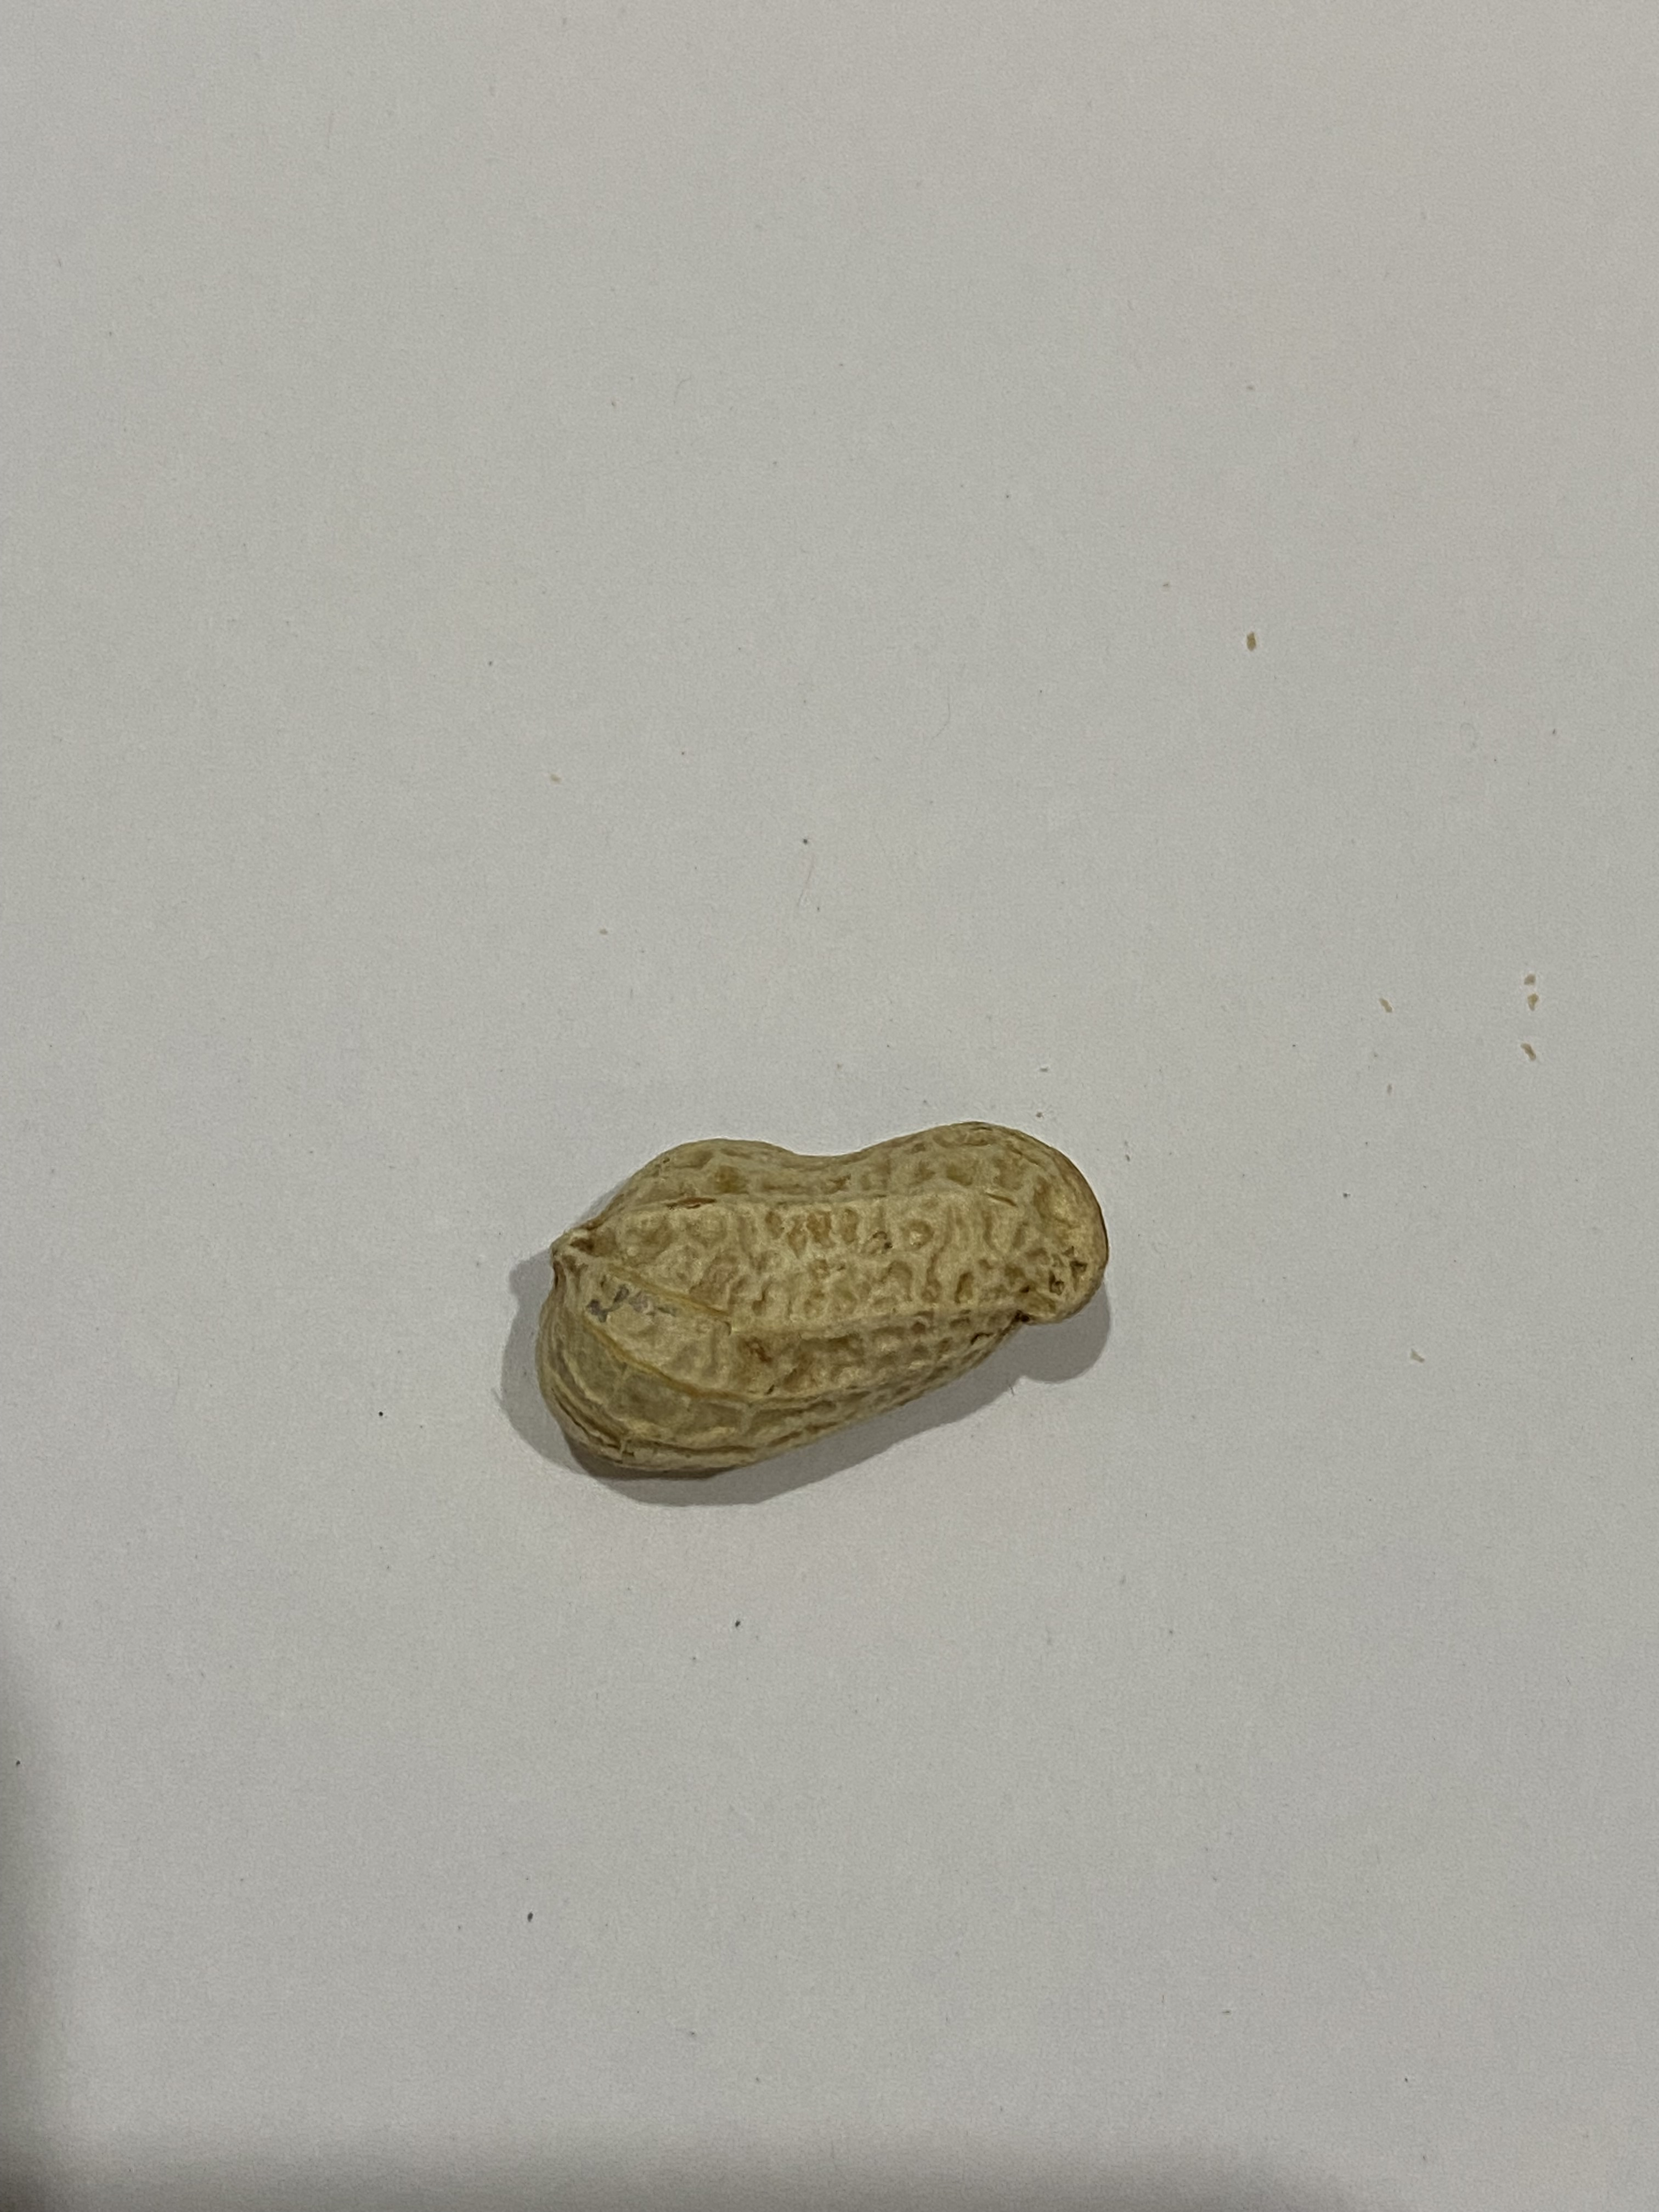kacang2: (512, 1113, 1136, 1480)
